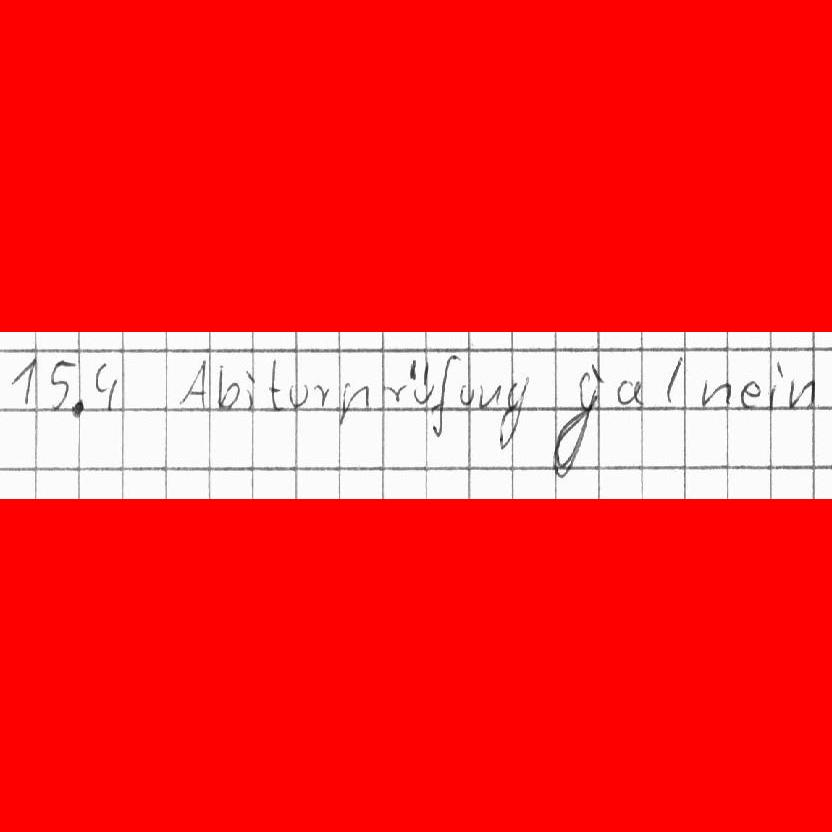Char: (549, 360, 604, 480), (429, 353, 460, 440), (494, 373, 529, 450), (176, 353, 213, 411), (336, 379, 372, 428), (47, 357, 77, 412), (93, 359, 121, 415), (9, 356, 39, 407), (408, 358, 436, 410), (661, 351, 684, 407), (614, 374, 649, 410), (698, 375, 736, 408), (217, 362, 242, 412), (763, 358, 786, 411), (267, 357, 284, 415), (788, 376, 816, 411), (477, 379, 502, 412), (739, 376, 760, 410), (382, 381, 409, 407), (287, 383, 310, 411), (243, 367, 256, 414), (313, 382, 332, 410), (458, 381, 476, 409), (69, 395, 86, 420)
